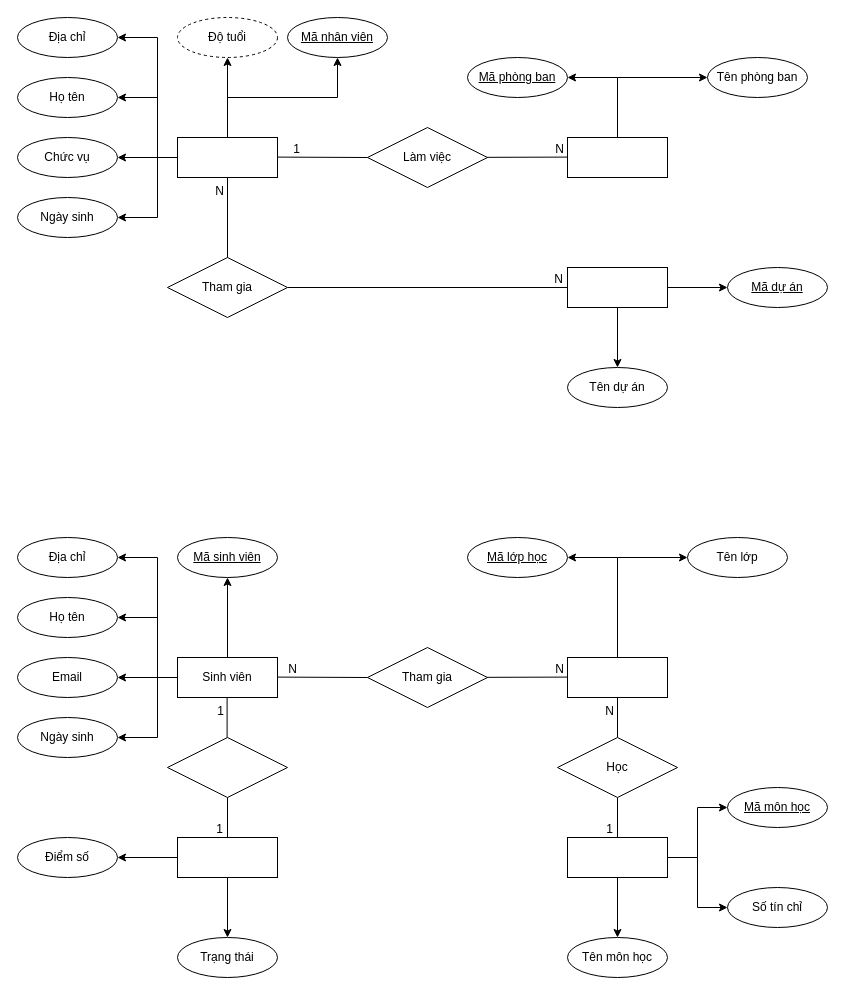
Image size: 845x995. Some labels were removed from this diagram. Here are the shapes that lost their labels. From the top down, the centre of each, then its label:
the point at 227,157: Nhân viên
the point at 617,157: Phòng ban
the point at 617,287: Dự án
the point at 617,677: Lớp học
the point at 227,767: Kết quả
the point at 227,857: Kết quả học tập
the point at 617,857: Môn học
